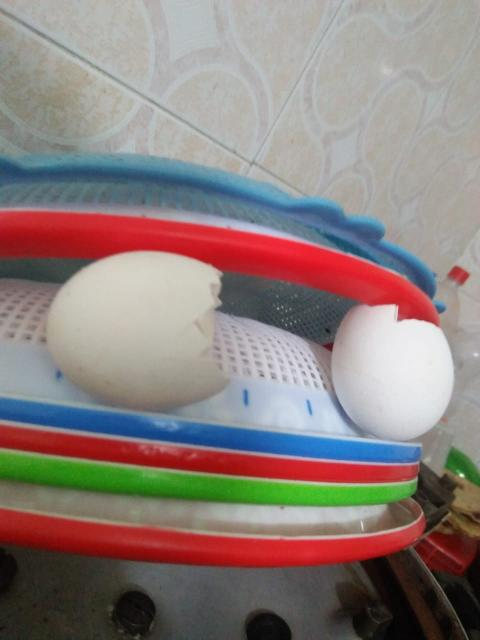Roto: (44, 248, 230, 411), (330, 302, 455, 442)
